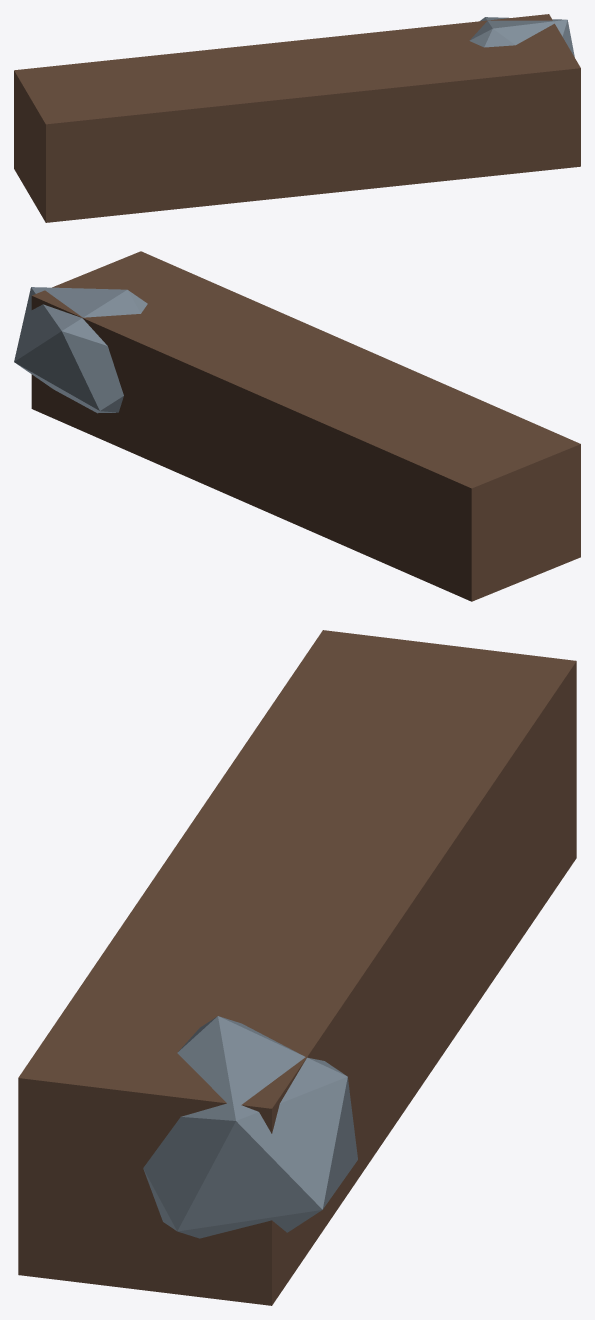
The model's file is INT_C_FallenBeam_00.glb.
3 views of the same model, one above another, from view 1: azimuth 30°, elevation 25°; view 2: azimuth 150°, elevation 25°; view 3: azimuth 270°, elevation 25° (orthographic). The views are drawn at different scales.
Visible parts, largest first — view 1: INT_C_FallenBeam_00; view 2: INT_C_FallenBeam_00; view 3: INT_C_FallenBeam_00.
Boxes of the visible parts, x1,y1,x2,y2 form: INT_C_FallenBeam_00: (14, 14, 580, 222); INT_C_FallenBeam_00: (14, 251, 580, 601); INT_C_FallenBeam_00: (18, 630, 576, 1305).
Bounding box in the file's own units: 1.49 × 0.3152 × 0.7192.
